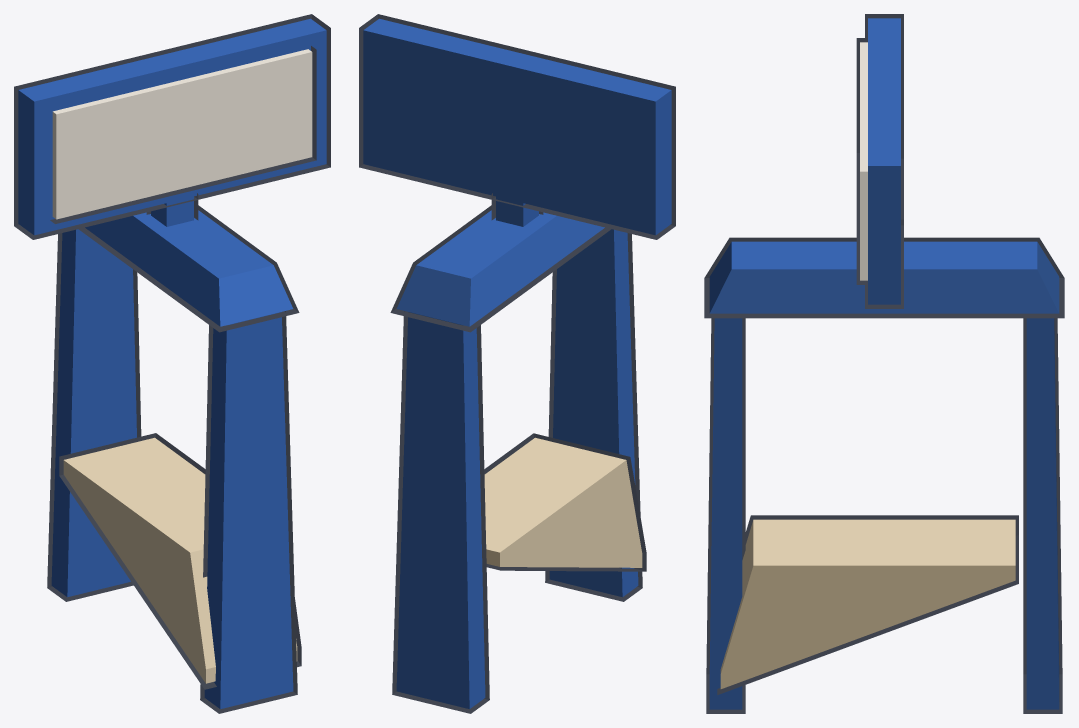
The model's file is sort_gate_2.glb.
The picture shows the model from 3 angles, left to right: view 1: azimuth 30°, elevation 25°; view 2: azimuth 150°, elevation 25°; view 3: azimuth 270°, elevation 25°; orthographic projection. The views are drawn at different scales.
Parts seen in each view (by area): view 1: arch, sign, chute, ink_outline (×3); view 2: arch, sign, chute, ink_outline (×3); view 3: arch, chute, ink_outline (×3), sign.
Part boxes in pixels (left/top/right/bottom): arch: left=51, top=210, right=293, bottom=708; sign: left=18, top=18, right=326, bottom=235; chute: left=63, top=437, right=297, bottom=683; ink_outline (×3): left=14, top=14, right=330, bottom=713; arch: left=396, top=210, right=638, bottom=708; sign: left=363, top=18, right=671, bottom=235; chute: left=484, top=437, right=642, bottom=567; ink_outline (×3): left=359, top=14, right=675, bottom=713; arch: left=709, top=241, right=1059, bottom=709; chute: left=720, top=519, right=1015, bottom=688; ink_outline (×3): left=704, top=14, right=1064, bottom=713; sign: left=860, top=18, right=900, bottom=304.
Size of the model in its own units: 0.0652 by 0.1222 by 0.0659.
